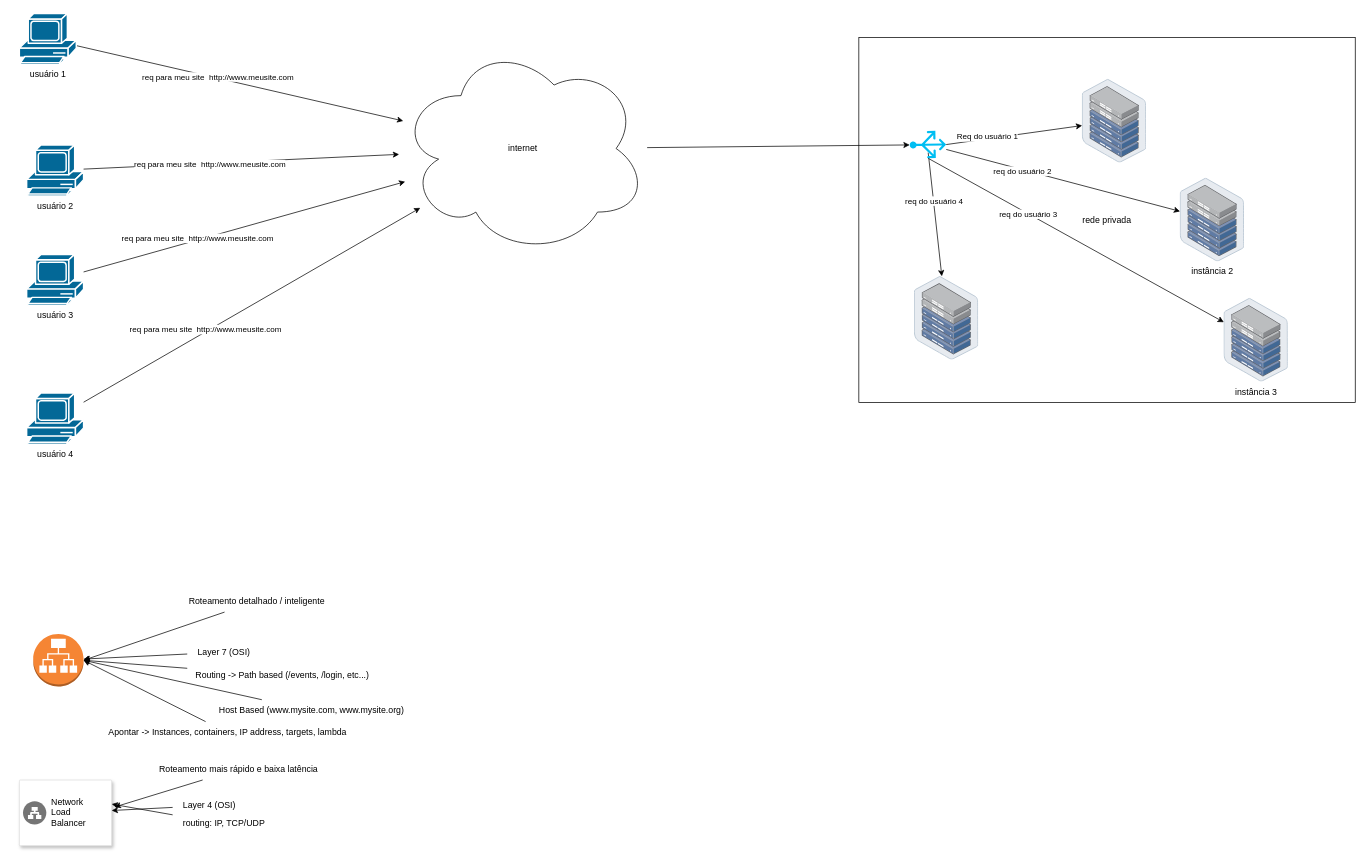
This 1368x864 diagram has some shape labels left out. Here are the shapes that lost their labels. From the top down, the centre of each, then its label:
[1114,120]: instância 1
[927,144]: load balancer
[946,318]: instância 4
[58,660]: aplication load balancer
